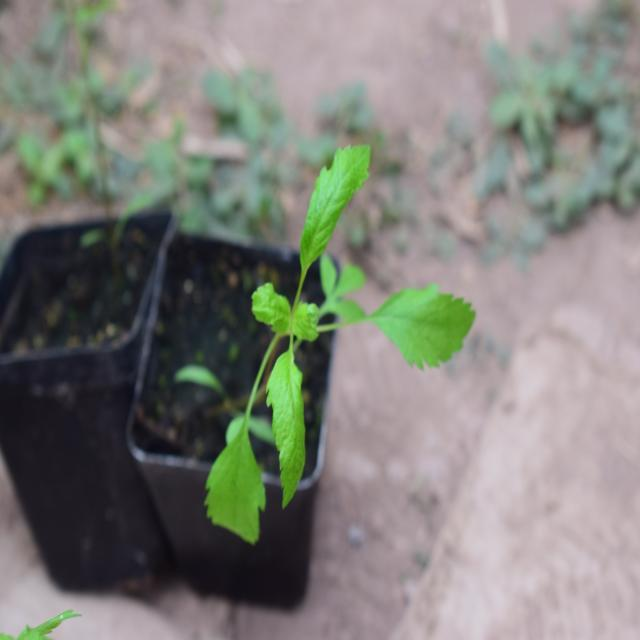Bidens pilosa: (168, 136, 474, 530)
